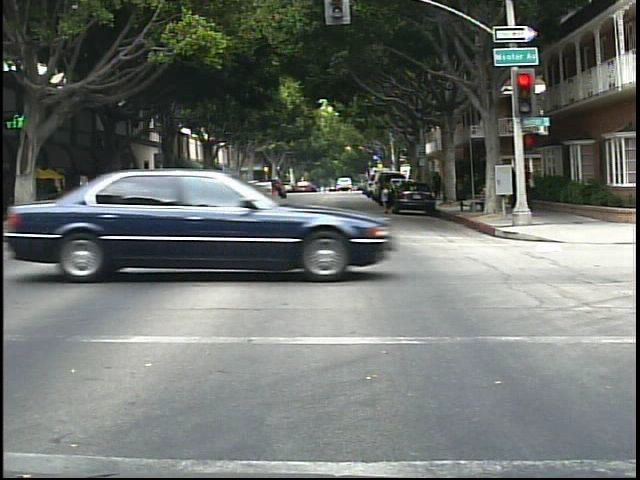person: (152, 172, 190, 242), (372, 172, 398, 217), (433, 169, 445, 199)
